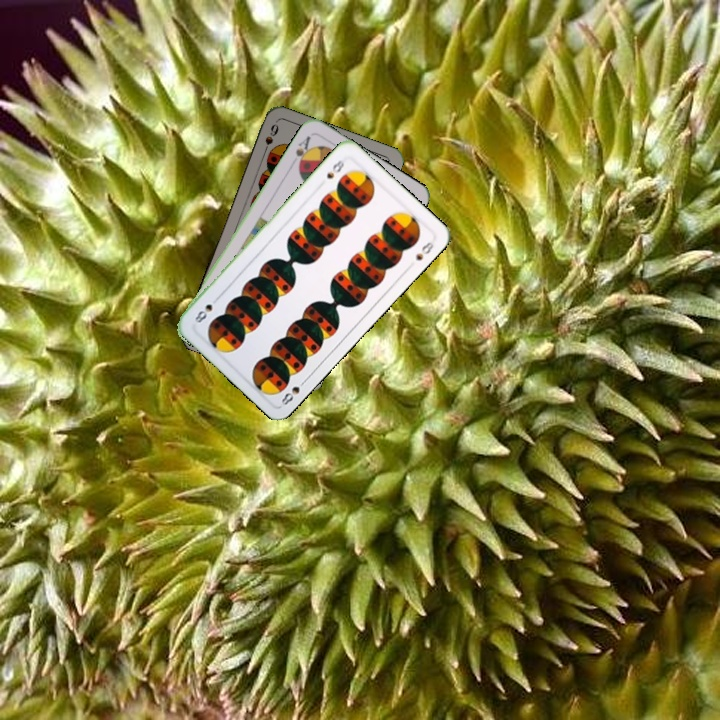S8: (277, 375, 310, 408), (322, 153, 347, 181)
S9: (259, 120, 281, 159)
SA: (291, 131, 314, 171)
